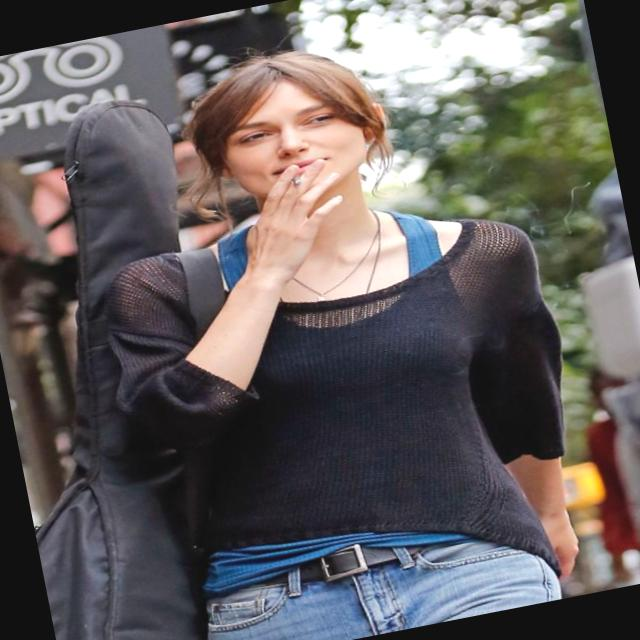smoke: (278, 158, 310, 192)
